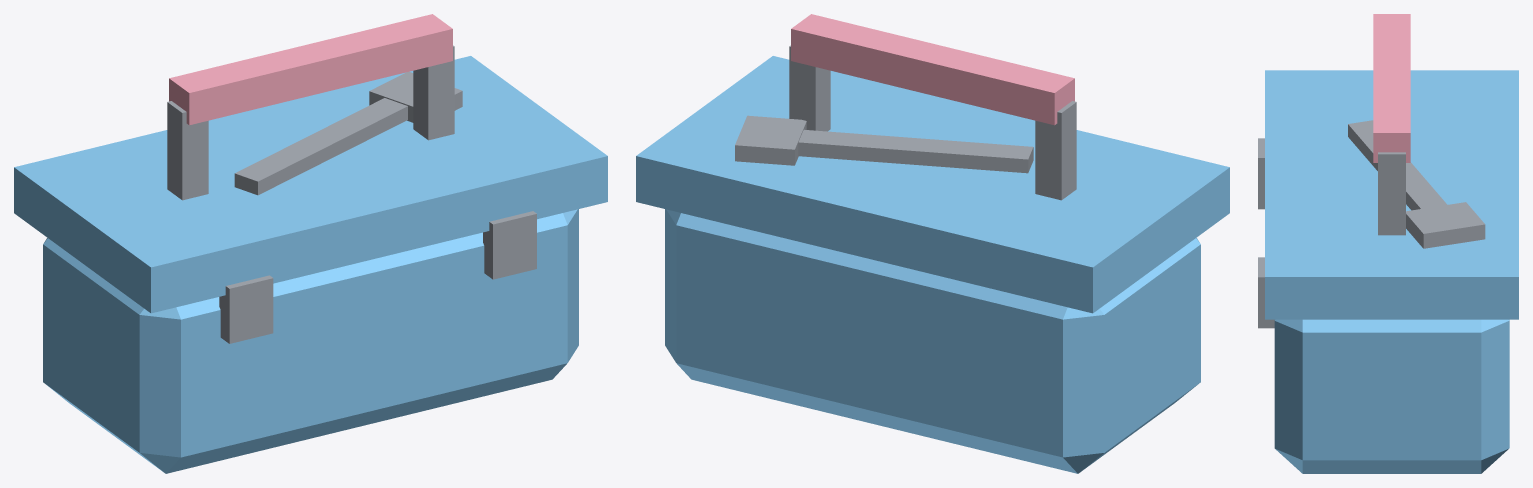
Rendered from CleanACat_Prop_Toolbox.fbx.
3 renders of one model, left to right at view 1: azimuth 30°, elevation 25°; view 2: azimuth 150°, elevation 25°; view 3: azimuth 270°, elevation 25°, orthographic. The views are drawn at different scales.
Parts seen in each view (by area): view 1: CleanACat_Prop_Toolbox; view 2: CleanACat_Prop_Toolbox; view 3: CleanACat_Prop_Toolbox.
Part boxes in pixels (x1,y1,x2,y2): CleanACat_Prop_Toolbox: (14, 14, 607, 473); CleanACat_Prop_Toolbox: (636, 14, 1229, 473); CleanACat_Prop_Toolbox: (1258, 14, 1518, 473).
Size of the model in its own units: 1.3 by 0.9188 by 0.6937.
Materials: 1 (1 with a texture image).
